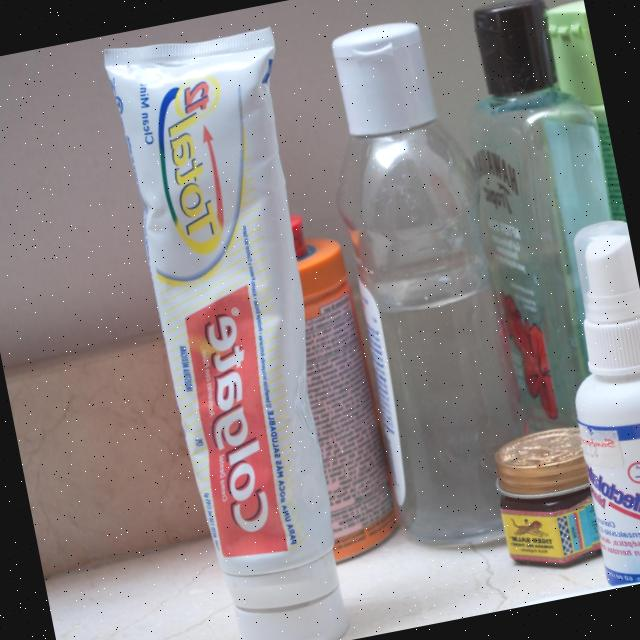Toothpaste: (98, 15, 396, 640)
